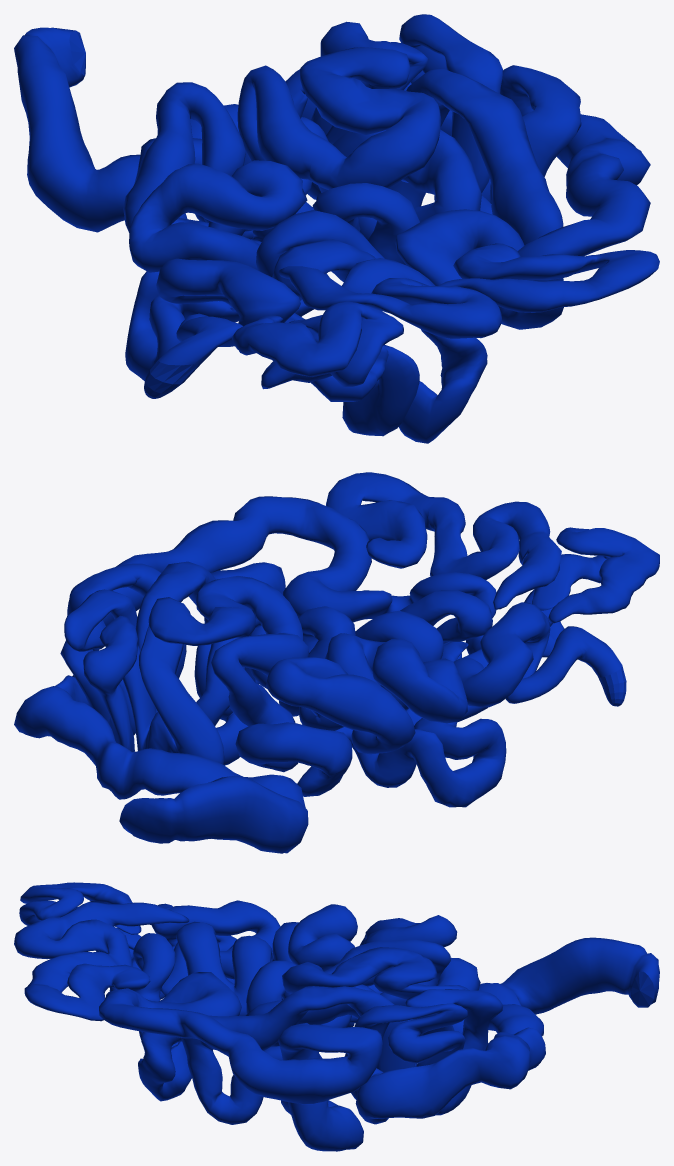
The model's file is SmallIntestine_2_Mascularis.fbx.
3 views of the same model, one above another, from view 1: azimuth 30°, elevation 25°; view 2: azimuth 150°, elevation 25°; view 3: azimuth 270°, elevation 25° (orthographic). The views are drawn at different scales.
Parts seen in each view (by area): view 1: SmallIntestine_2_Mascularis; view 2: SmallIntestine_2_Mascularis; view 3: SmallIntestine_2_Mascularis.
Boxes of the visible parts, bbox=[...] form: SmallIntestine_2_Mascularis: bbox=[14, 14, 659, 443]; SmallIntestine_2_Mascularis: bbox=[14, 472, 659, 853]; SmallIntestine_2_Mascularis: bbox=[14, 882, 659, 1151].
Bounding box in the file's own units: 191 × 77.5 × 263.
